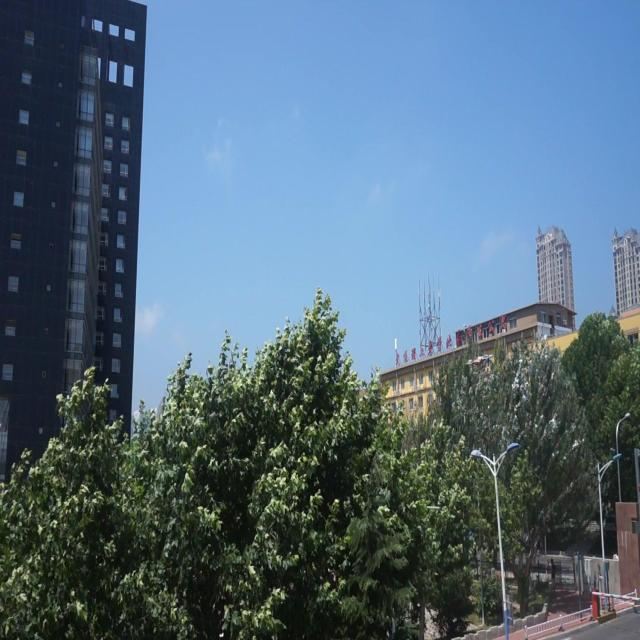drone: (466, 351, 492, 375)
